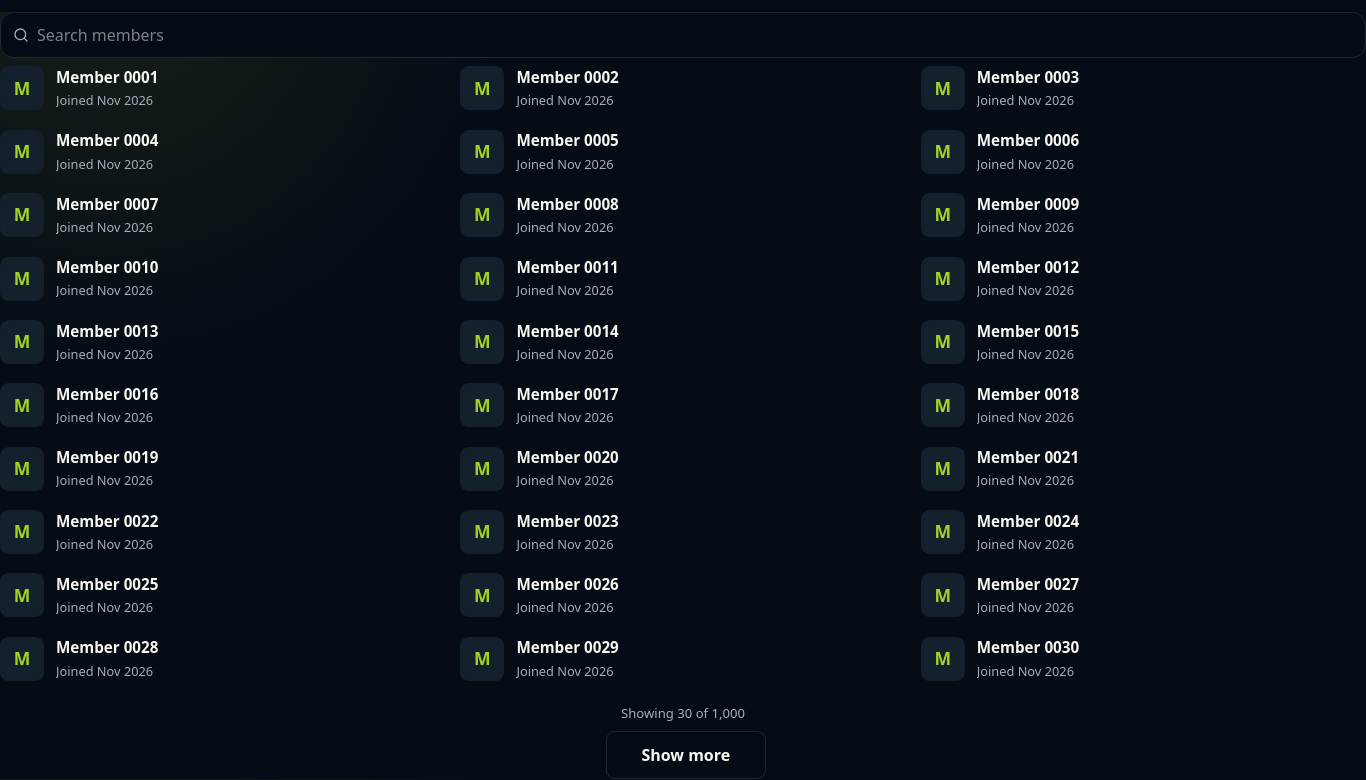
Test case: paged member list › searches the whole club once typing pauses
The width and height of the screenshot is (1366, 780).
Type "0777" into the search field at (695, 35), box [37,13,1353,57]
Wait 300 ms
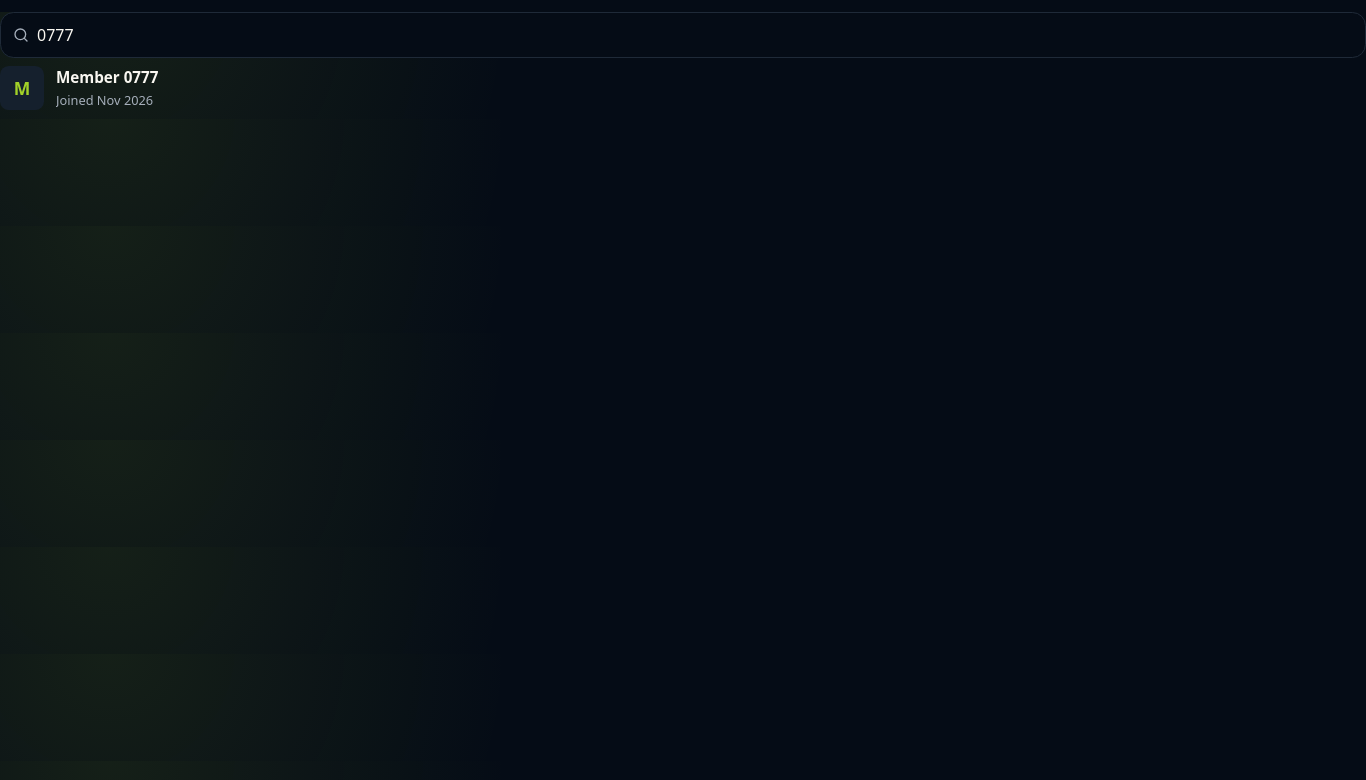
Check: the number of list items is 1, box [0,66,158,110]
Check: the text "Member 0777" is shown, box [56,67,158,87]
Check: the button "Show more" is gone
